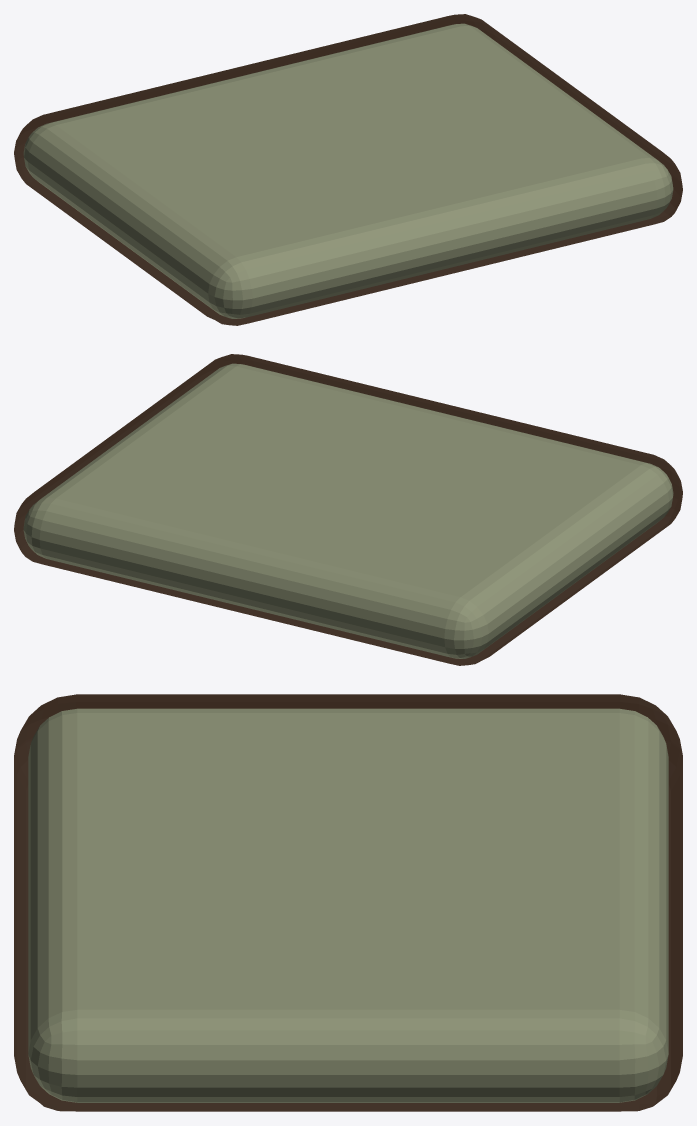
Rendered from teahouse-pillow.glb.
3 views of the same model, one above another, from view 1: azimuth 30°, elevation 25°; view 2: azimuth 150°, elevation 25°; view 3: azimuth 270°, elevation 25° (orthographic). The views are drawn at different scales.
Visible parts, largest first — view 1: teahouse-pillow, teahouse-pillow-outline; view 2: teahouse-pillow, teahouse-pillow-outline; view 3: teahouse-pillow, teahouse-pillow-outline.
Boxes of the visible parts, bbox=[...] form: teahouse-pillow: bbox=[23, 23, 673, 318]; teahouse-pillow-outline: bbox=[14, 14, 682, 325]; teahouse-pillow: bbox=[23, 363, 673, 658]; teahouse-pillow-outline: bbox=[14, 354, 682, 665]; teahouse-pillow: bbox=[28, 708, 668, 1102]; teahouse-pillow-outline: bbox=[14, 694, 682, 1111].
Bounding box in the file's own units: 1.04 × 0.1404 × 0.8358.
